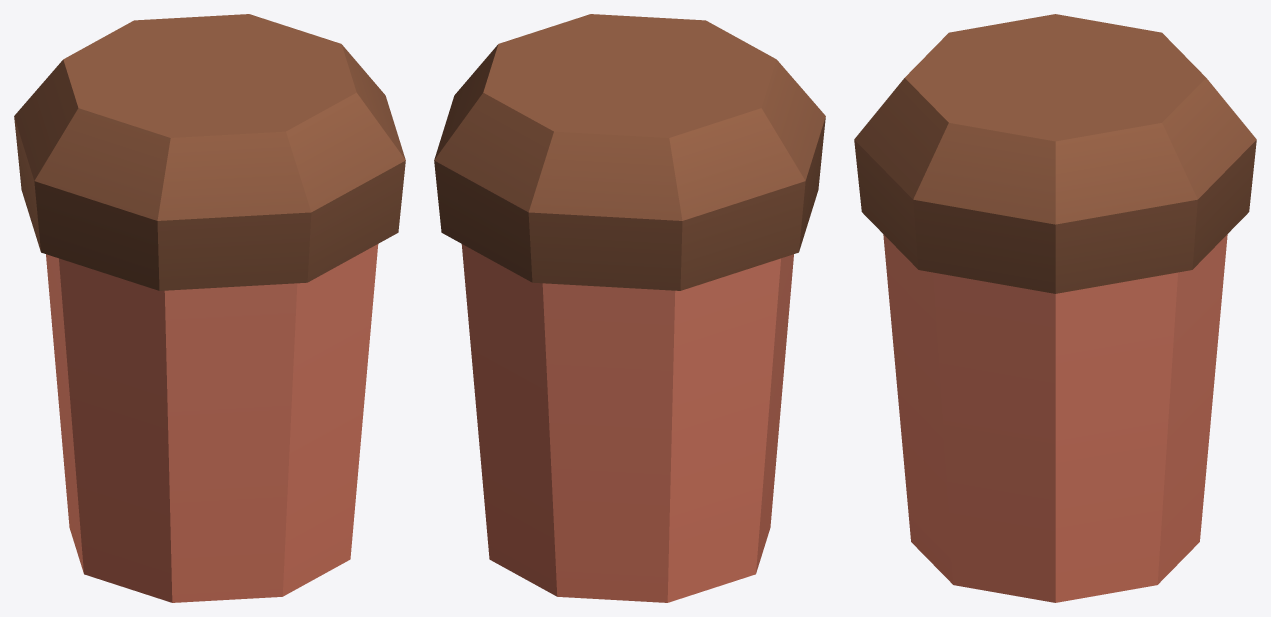
The model's file is cake.fbx.
The picture shows the model from 3 angles, left to right: view 1: azimuth 30°, elevation 25°; view 2: azimuth 150°, elevation 25°; view 3: azimuth 270°, elevation 25°; orthographic projection.
Parts seen in each view (by area): view 1: cake; view 2: cake; view 3: cake.
Part boxes in pixels (<box>): cake: <box>14,14,405,602</box>; cake: <box>434,14,825,602</box>; cake: <box>854,14,1256,602</box>.
Bounding box in the file's own units: 102 × 130 × 102.
1 material, 1 textured.
